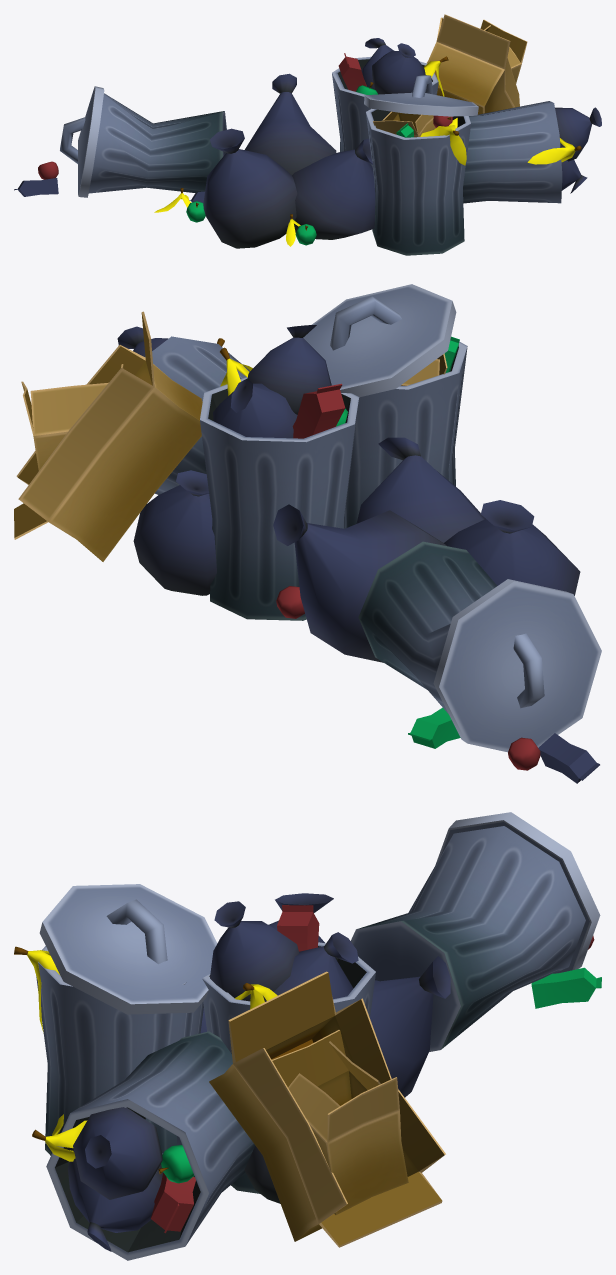
Rendered from prop_GarbagePile04.fbx.
3 renders of one model, top to bottom at view 1: azimuth 30°, elevation 25°; view 2: azimuth 150°, elevation 25°; view 3: azimuth 270°, elevation 25°, orthographic. The views are drawn at different scales.
Parts seen in each view (by area): view 1: prop_GarbageCan03, prop_GarbageCan04, prop_GarbageCan02, prop_GarbageBag02, prop_GarbageBag01, prop_GarbageBox08, prop_GarbageCan01, prop_GarbageBag03, prop_Garbage, prop_GarbageBox09, prop_Garbage1; view 2: prop_GarbageCan04, prop_GarbageCan01, prop_GarbageCan03, prop_GarbageBox08, prop_GarbageBag03, prop_GarbageBag04, prop_GarbageBag02, prop_GarbageBag01, prop_GarbageCan02, prop_Garbage, prop_GarbageBox09, prop_Garbage1; view 3: prop_GarbageCan03, prop_GarbageCan04, prop_GarbageCan02, prop_GarbageBox08, prop_GarbageCan01, prop_GarbageBox09, prop_GarbageBag03, prop_Garbage, prop_GarbageBag04, prop_GarbageBag02.
Part boxes in pixels (left/top/right/bottom): prop_GarbageCan03: left=364, top=75, right=478, bottom=255; prop_GarbageCan04: left=60, top=86, right=226, bottom=197; prop_GarbageCan02: left=463, top=101, right=601, bottom=203; prop_GarbageBag02: left=203, top=128, right=297, bottom=248; prop_GarbageBag01: left=292, top=138, right=375, bottom=239; prop_GarbageBox08: left=427, top=14, right=519, bottom=114; prop_GarbageCan01: left=332, top=38, right=448, bottom=166; prop_GarbageBag03: left=244, top=73, right=336, bottom=174; prop_Garbage: left=14, top=161, right=205, bottom=222; prop_GarbageBox09: left=480, top=19, right=527, bottom=83; prop_Garbage1: left=189, top=191, right=316, bottom=246; prop_GarbageCan04: left=358, top=541, right=601, bottom=752; prop_GarbageCan01: left=200, top=325, right=359, bottom=620; prop_GarbageCan03: left=303, top=284, right=467, bottom=527; prop_GarbageBox08: left=14, top=311, right=202, bottom=561; prop_GarbageBag03: left=273, top=504, right=446, bottom=662; prop_GarbageBag04: left=133, top=470, right=216, bottom=595; prop_GarbageBag02: left=444, top=500, right=580, bottom=595; prop_GarbageBag01: left=356, top=437, right=485, bottom=542; prop_GarbageCan02: left=117, top=326, right=252, bottom=494; prop_Garbage: left=408, top=707, right=599, bottom=783; prop_GarbageBox09: left=21, top=364, right=123, bottom=472; prop_Garbage1: left=276, top=586, right=304, bottom=618; prop_GarbageCan03: left=14, top=884, right=217, bottom=1155; prop_GarbageCan04: left=350, top=812, right=600, bottom=1051; prop_GarbageCan02: left=32, top=1031, right=255, bottom=1260; prop_GarbageBox08: left=209, top=971, right=445, bottom=1247; prop_GarbageCan01: left=202, top=901, right=375, bottom=1193; prop_GarbageBox09: left=272, top=1030, right=408, bottom=1214; prop_GarbageBag03: left=370, top=956, right=450, bottom=1097; prop_Garbage: left=531, top=935, right=601, bottom=1008; prop_GarbageBag04: left=244, top=1146, right=280, bottom=1203; prop_GarbageBag02: left=268, top=893, right=333, bottom=942.
Size of the model in its own units: 762 by 277 by 534.
